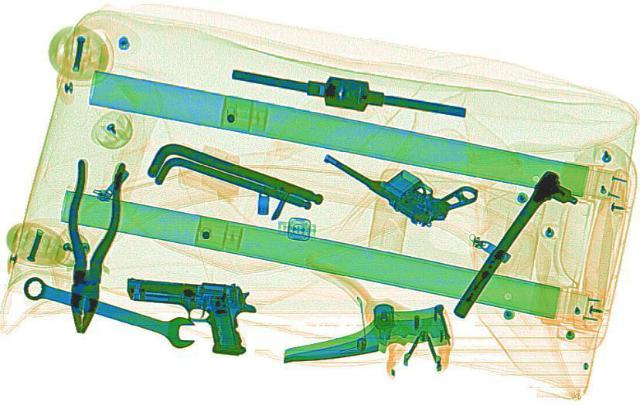Gun: (314, 125, 491, 230), (110, 273, 260, 353)
Pliers: (52, 157, 126, 332)
Wrench: (7, 272, 205, 349)
